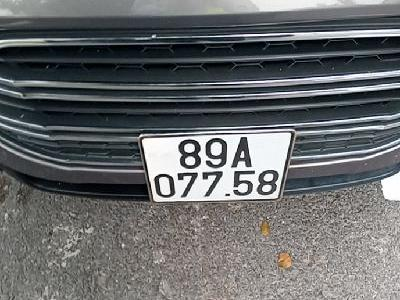lisence: (137, 129, 296, 206)
